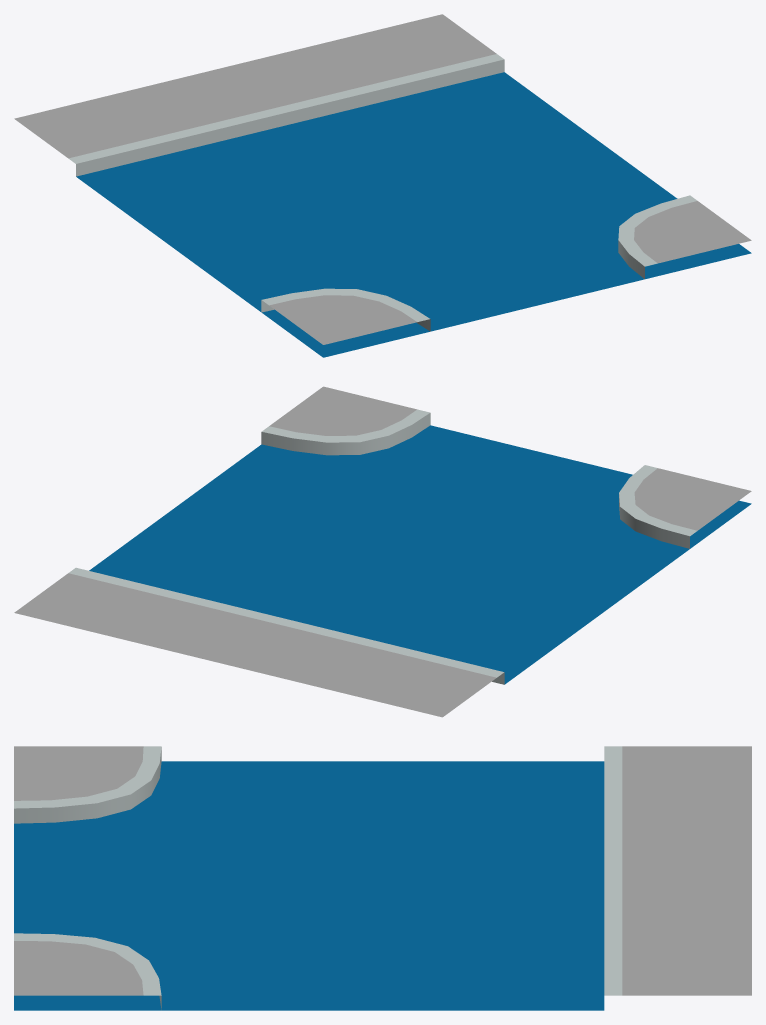
The model's file is T_Intersection_Wide_Narrow.fbx.
3 renders of one model, top to bottom at view 1: azimuth 30°, elevation 25°; view 2: azimuth 150°, elevation 25°; view 3: azimuth 270°, elevation 25°, orthographic. The views are drawn at different scales.
Visible parts, largest first — view 1: T_Intersection_Wide_Narrow; view 2: T_Intersection_Wide_Narrow; view 3: T_Intersection_Wide_Narrow.
Part boxes in pixels (x1,y1,x2,y2): T_Intersection_Wide_Narrow: (14, 14, 751, 357); T_Intersection_Wide_Narrow: (14, 386, 751, 717); T_Intersection_Wide_Narrow: (14, 746, 751, 1010).
Bounding box in the file's own units: 800 × 22.59 × 1000.
